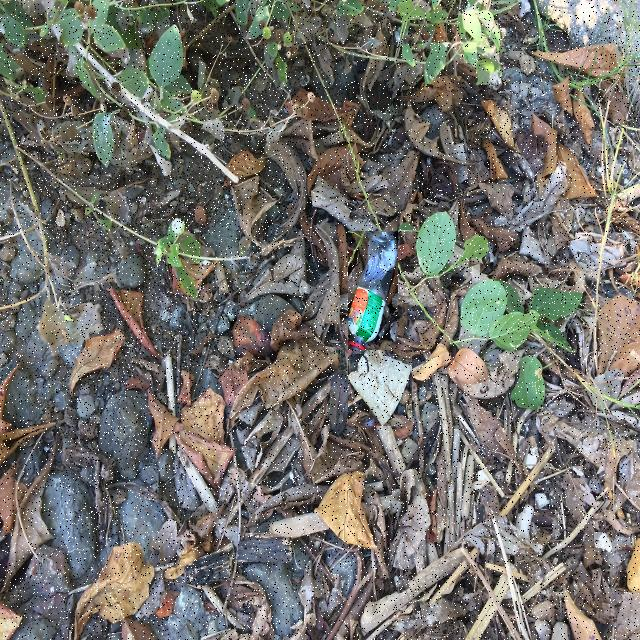Clear plastic bottle: (348, 231, 398, 359)
Styrofoam piece: (349, 350, 411, 426), (595, 532, 612, 552), (536, 494, 548, 509), (573, 467, 584, 477)
